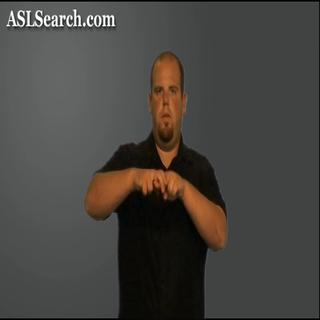chair: (131, 164, 188, 207)
